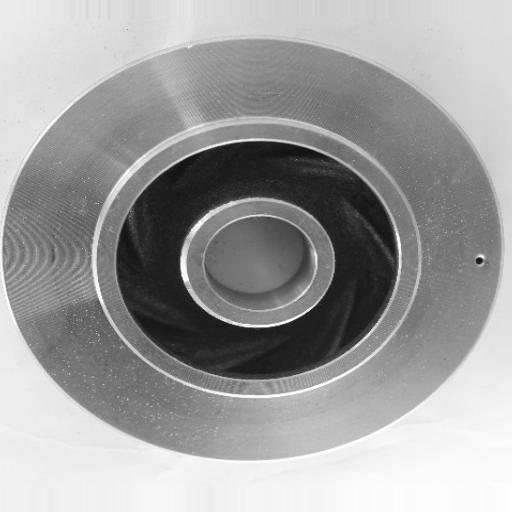pit: (467, 245, 491, 273)
unpolished_casting: (3, 36, 503, 464)
